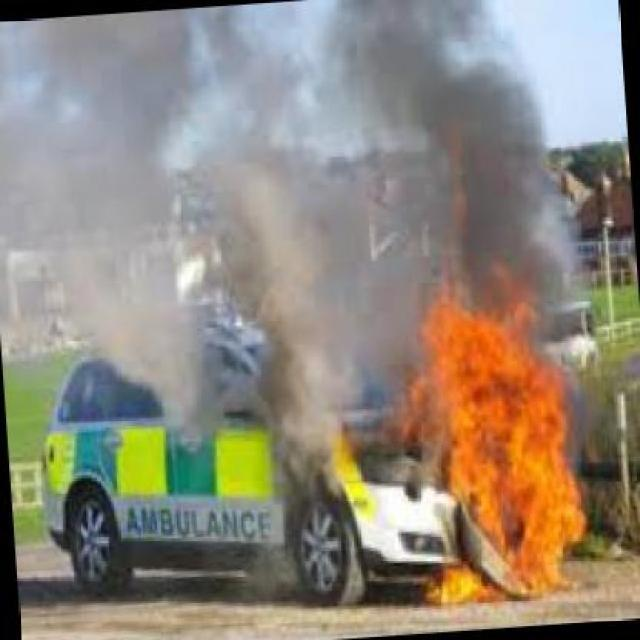Fire: (394, 284, 610, 610)
Smoke: (18, 17, 334, 473), (316, 0, 592, 290)
